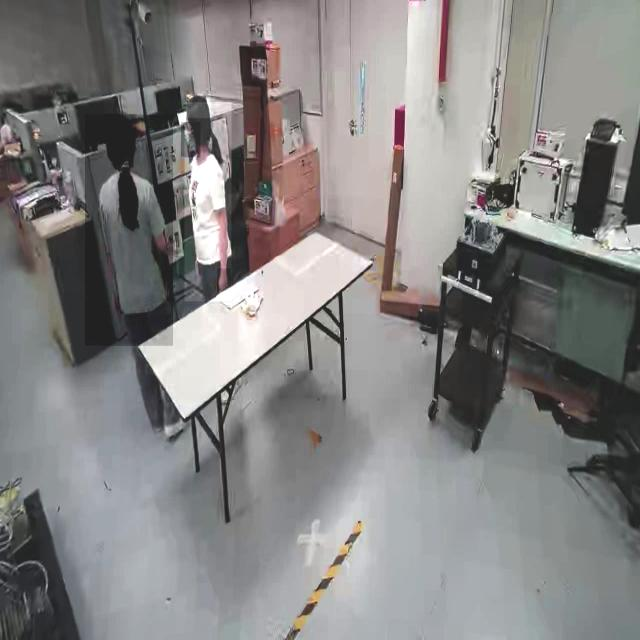face_mask: (180, 122, 200, 157)
hand_noglove: (217, 268, 231, 292)
head_nohelmet: (105, 114, 136, 141), (186, 94, 210, 119)
person: (85, 115, 173, 346), (184, 102, 232, 302)
